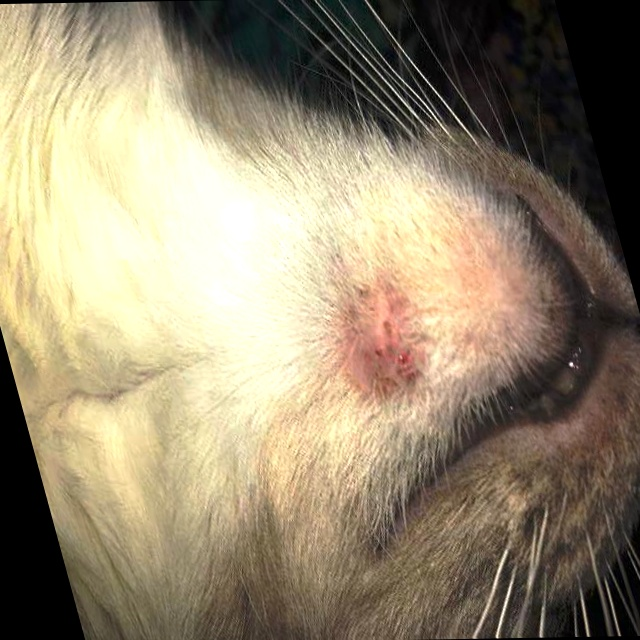acne: (328, 302, 441, 401)
